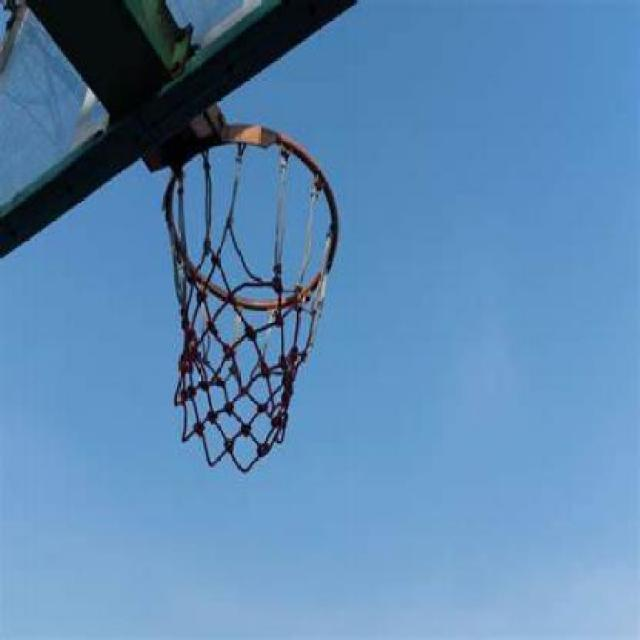rim: (161, 126, 341, 472)
